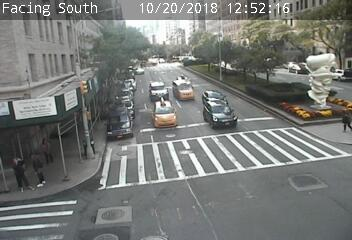car: (142, 100, 178, 128), (205, 104, 236, 128), (173, 80, 194, 101), (204, 90, 224, 104), (147, 81, 167, 94)
